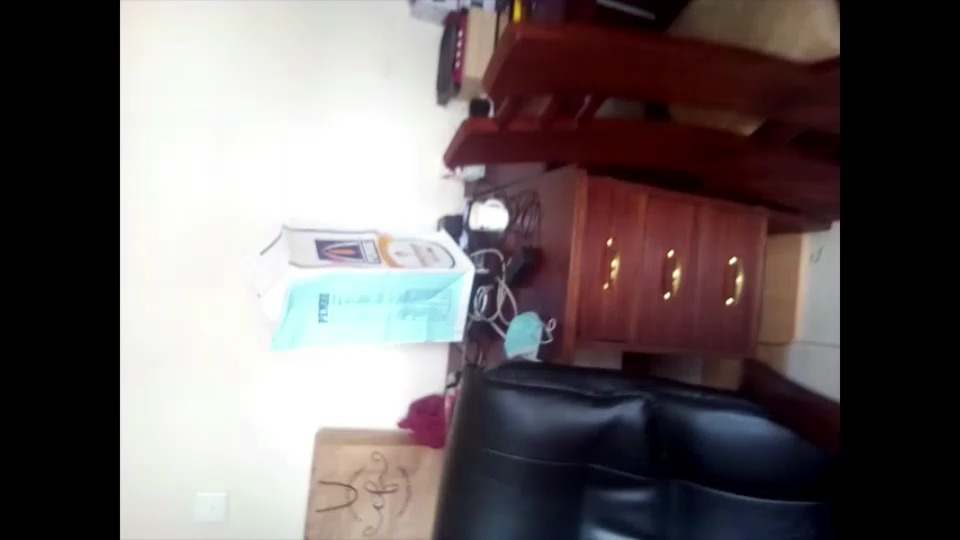wheat_flour_blue_label: (255, 227, 474, 347)
